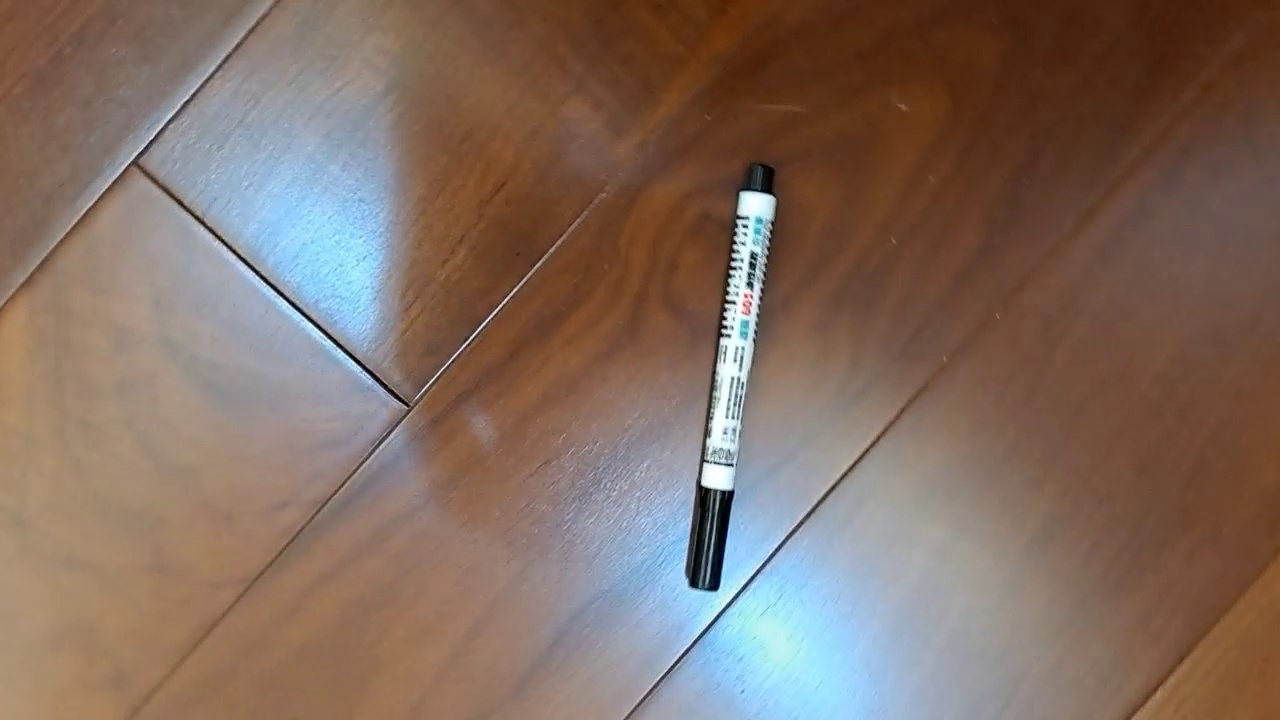pen: (686, 159, 779, 593)
